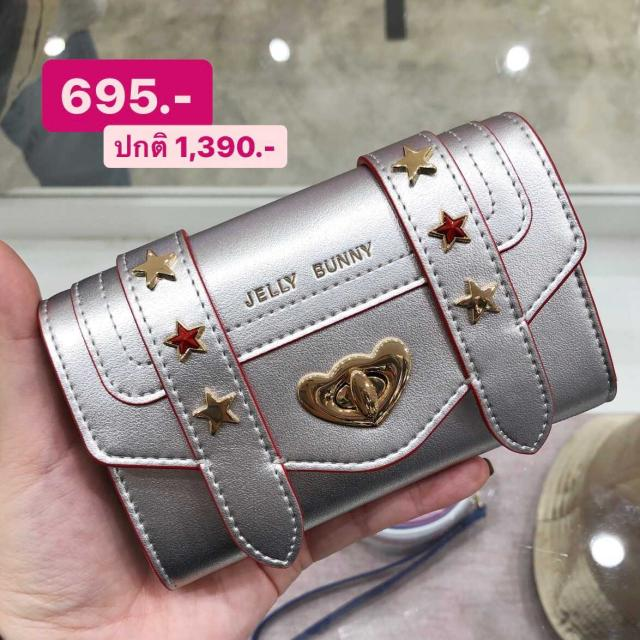bag: (0, 102, 631, 607)
